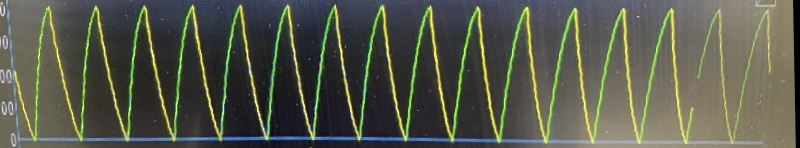normal_volume: (26, 2, 748, 146)
